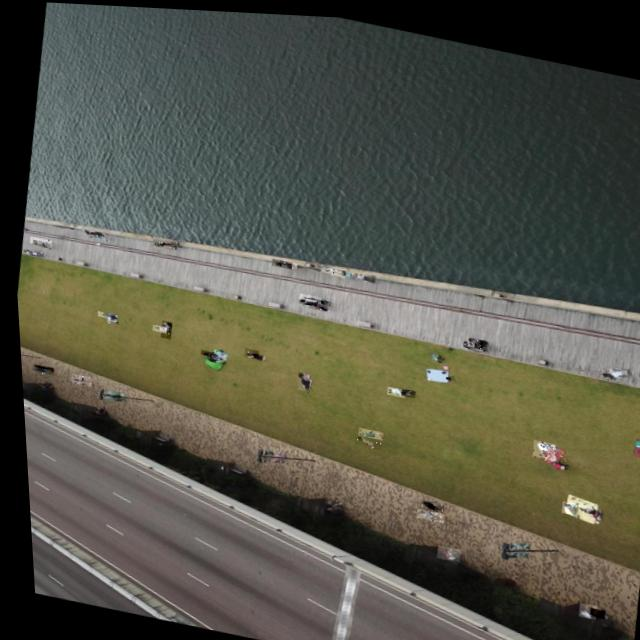Person: (601, 359, 630, 378), (527, 434, 552, 455), (349, 430, 377, 446), (429, 540, 455, 557), (410, 504, 438, 518), (571, 596, 592, 614), (318, 260, 344, 274), (413, 494, 439, 508), (353, 423, 379, 436), (348, 267, 374, 280), (150, 235, 175, 248), (291, 368, 307, 388), (555, 494, 574, 509), (26, 235, 50, 246), (156, 318, 169, 337), (268, 255, 290, 266), (382, 381, 402, 393), (86, 229, 107, 240), (295, 290, 318, 300), (65, 375, 88, 385), (305, 297, 325, 308), (67, 373, 88, 383), (275, 256, 295, 266), (29, 239, 49, 249), (28, 363, 50, 372), (295, 293, 314, 303), (26, 365, 47, 374), (79, 227, 99, 236), (583, 601, 599, 612), (571, 497, 588, 507), (456, 334, 471, 345), (240, 345, 255, 356), (396, 383, 412, 393), (464, 333, 480, 343), (148, 322, 163, 331), (26, 249, 41, 257), (196, 347, 212, 354), (93, 310, 108, 317), (314, 295, 328, 302), (633, 436, 640, 448)
